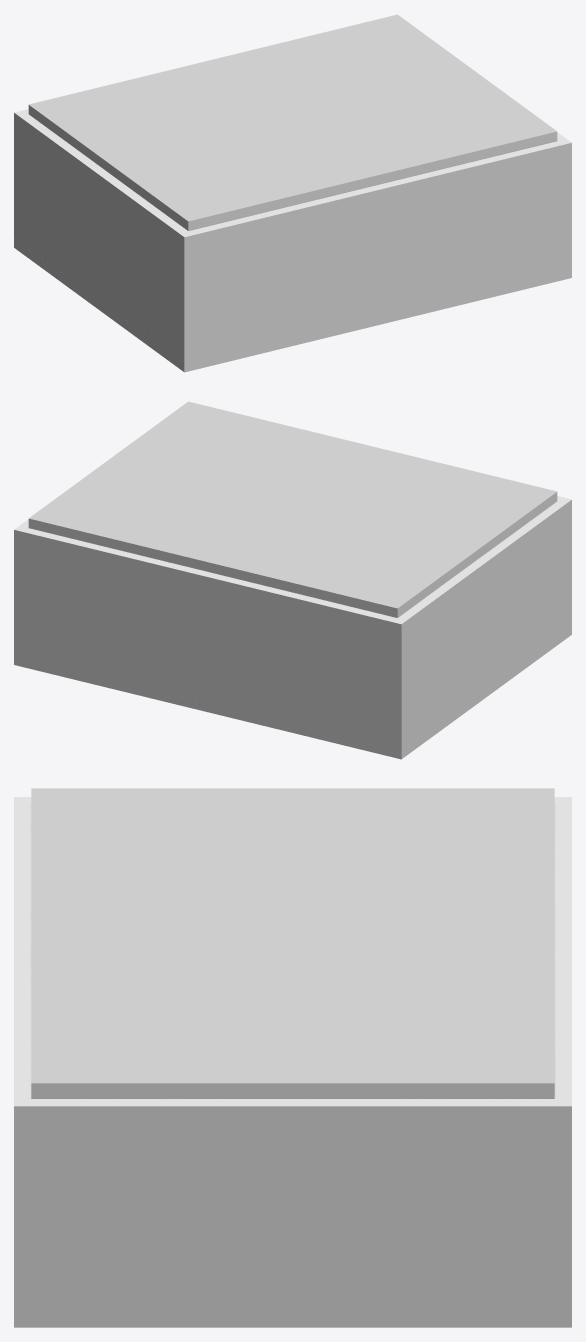
Rendered from room.glb.
3 views of the same model, one above another, from view 1: azimuth 30°, elevation 25°; view 2: azimuth 150°, elevation 25°; view 3: azimuth 270°, elevation 25° (orthographic). The views are drawn at different scales.
Visible parts, largest first — view 1: ceiling-col, wall_south-col, wall_west-col, floor-col, ceiling, wall_north-col; view 2: ceiling-col, wall_north-col, wall_west-col, floor-col, ceiling, wall_south-col; view 3: ceiling-col, wall_east-col, ceiling, floor-col, wall_north-col, wall_south-col.
Boxes of the visible parts, <box> form: ceiling-col: <box>28,14,557,230</box>; wall_south-col: <box>179,143,571,362</box>; wall_west-col: <box>19,116,178,358</box>; floor-col: <box>14,238,571,372</box>; ceiling: <box>14,109,571,237</box>; wall_north-col: <box>14,113,19,241</box>; ceiling-col: <box>28,401,557,617</box>; wall_north-col: <box>14,530,406,749</box>; wall_west-col: <box>407,503,566,745</box>; floor-col: <box>14,625,571,759</box>; ceiling: <box>14,496,571,624</box>; wall_south-col: <box>566,500,571,628</box>; ceiling-col: <box>31,788,554,1098</box>; wall_east-col: <box>31,1106,554,1311</box>; ceiling: <box>14,797,571,1106</box>; floor-col: <box>14,1311,571,1327</box>; wall_north-col: <box>554,1106,571,1311</box>; wall_south-col: <box>14,1106,31,1311</box>.
Bounding box in the file's own units: 8.4 × 3 × 6.4.
Materials: 45 (5 with a texture image).
